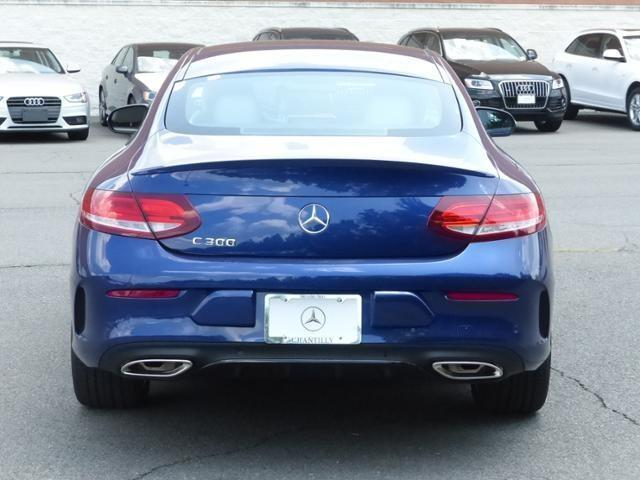C300Coupe: (67, 32, 561, 428)
